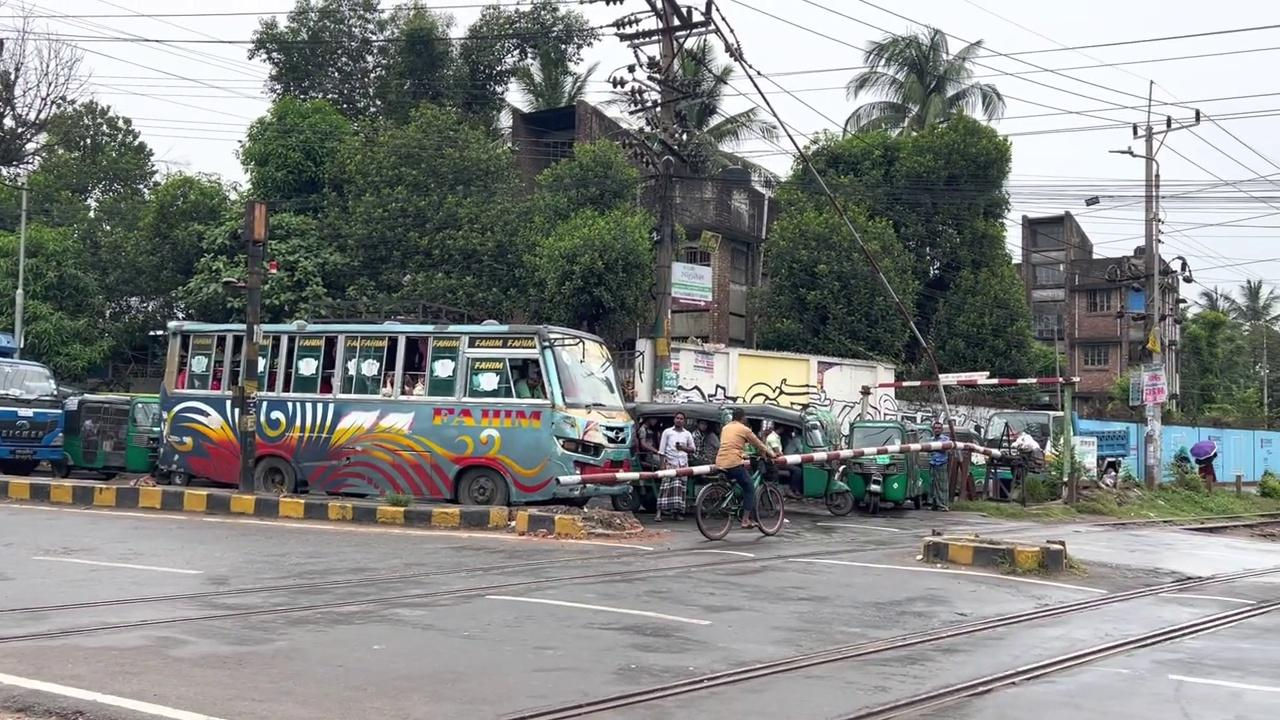Car: (1, 474, 652, 549)
Crosswalk: (124, 394, 161, 472)
Fence: (715, 407, 778, 528), (653, 411, 696, 521), (925, 420, 953, 511), (514, 361, 545, 398)
Garbage: (237, 199, 266, 493), (12, 187, 28, 357)
Motorcycle: (502, 561, 1278, 717)
Rickshaw: (152, 316, 641, 507), (54, 391, 162, 478)
